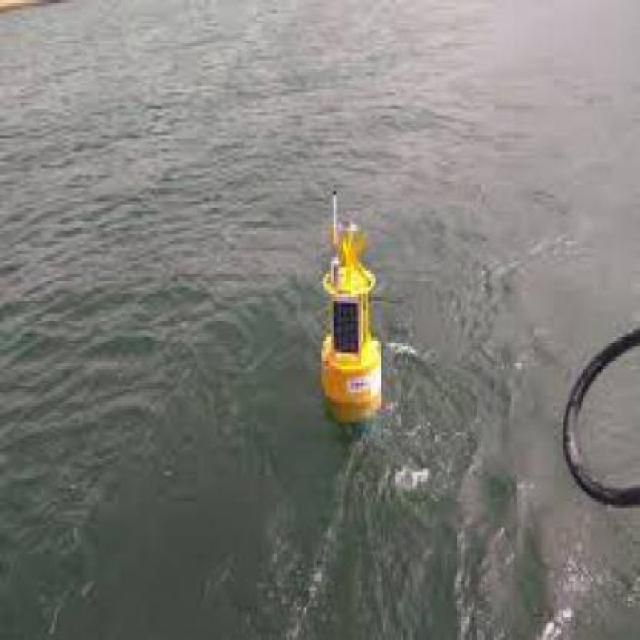buoy: (310, 183, 401, 437)
